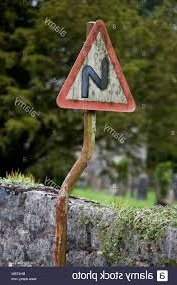Double_bend_right: (55, 17, 138, 113)
